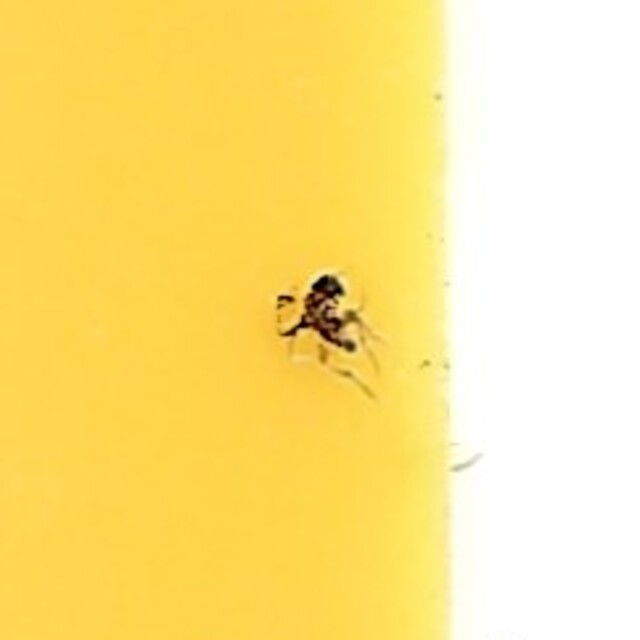Brachycera: (264, 267, 376, 373)
